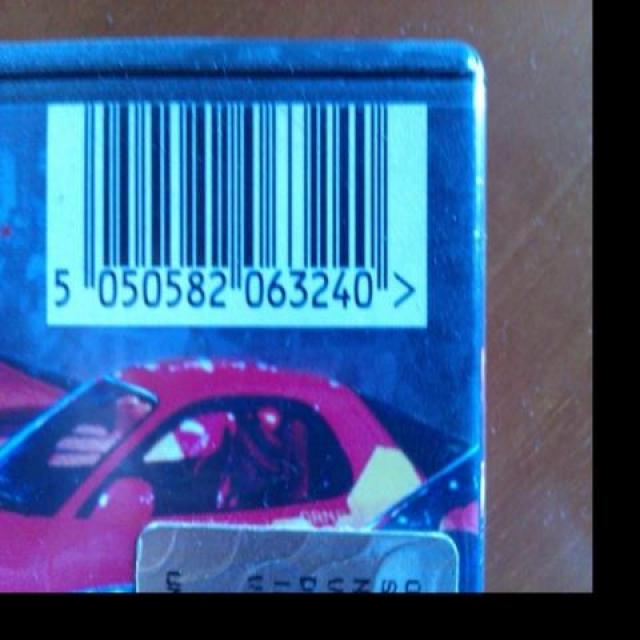Barcode: (47, 100, 426, 325)
